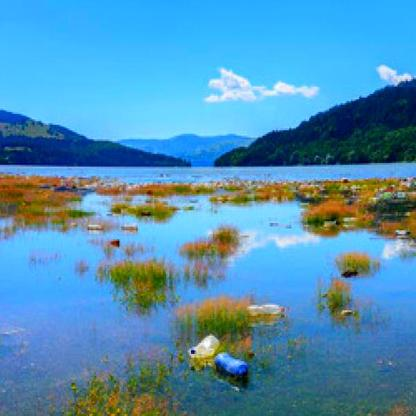plastic bottle: (190, 333, 219, 360), (246, 304, 286, 314)
